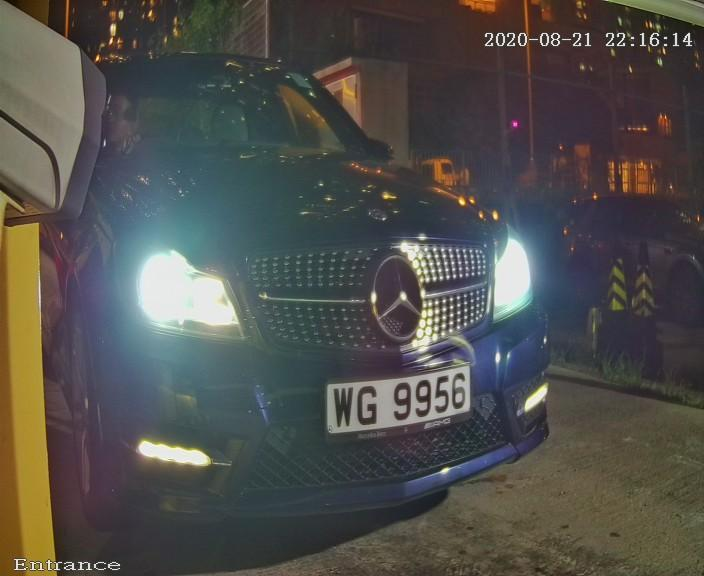License Plate: (303, 349, 505, 452)
